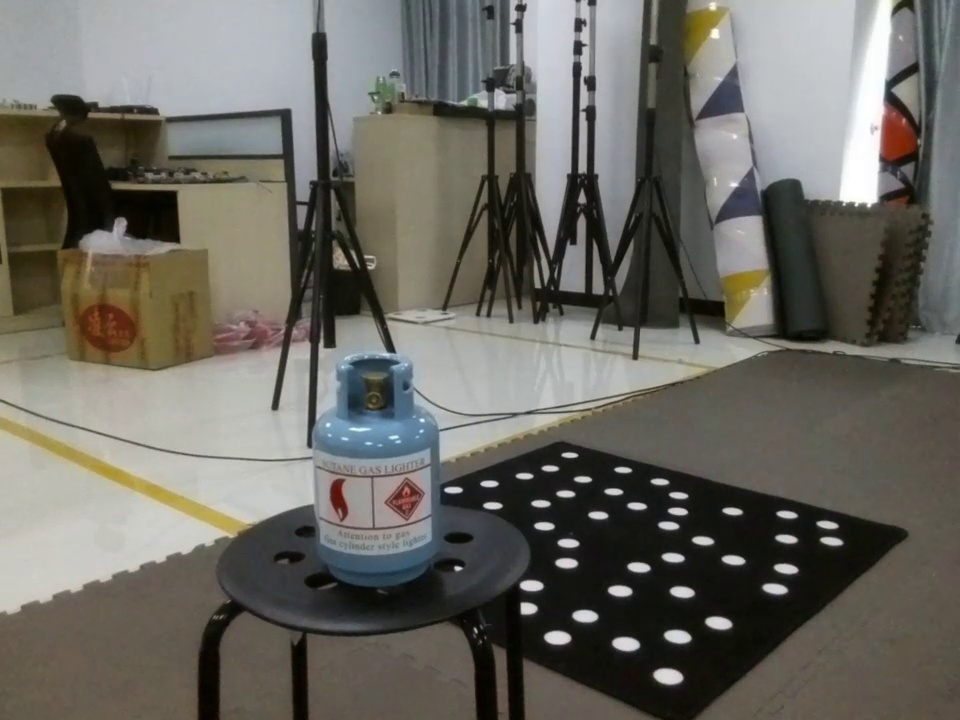gas tank: (293, 349, 476, 592)
